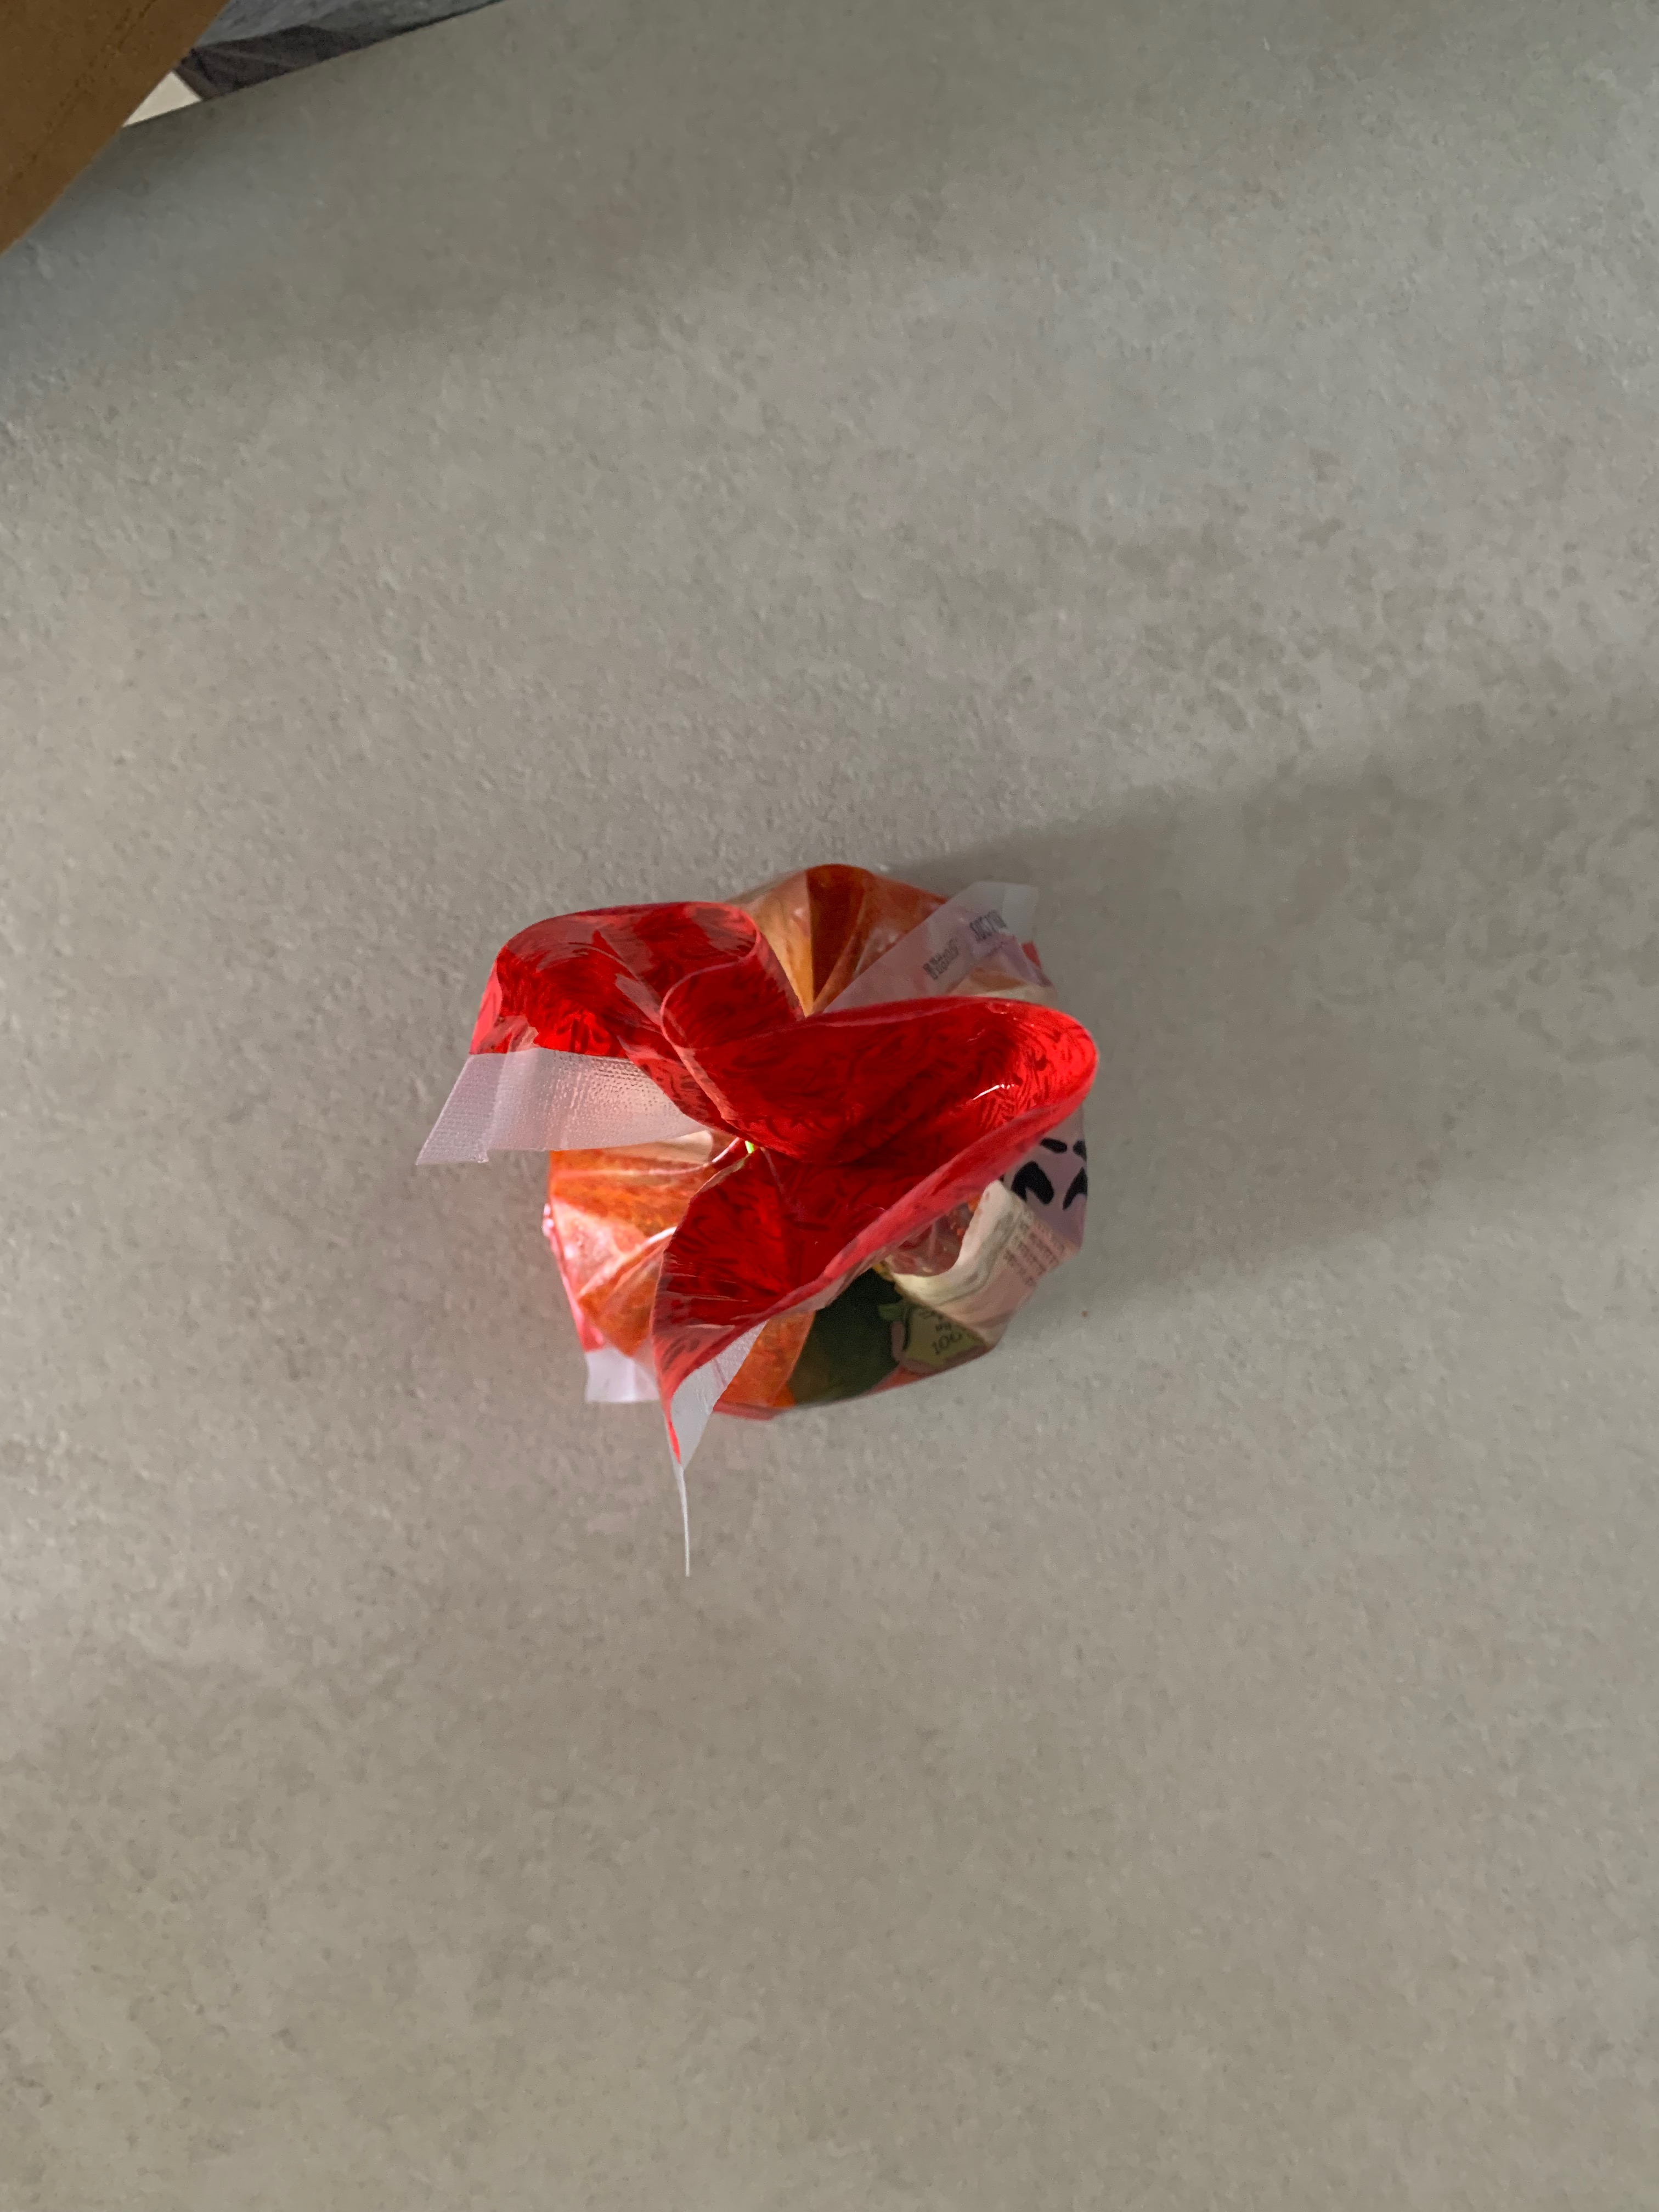kimchi: (467, 862, 1101, 1421)
